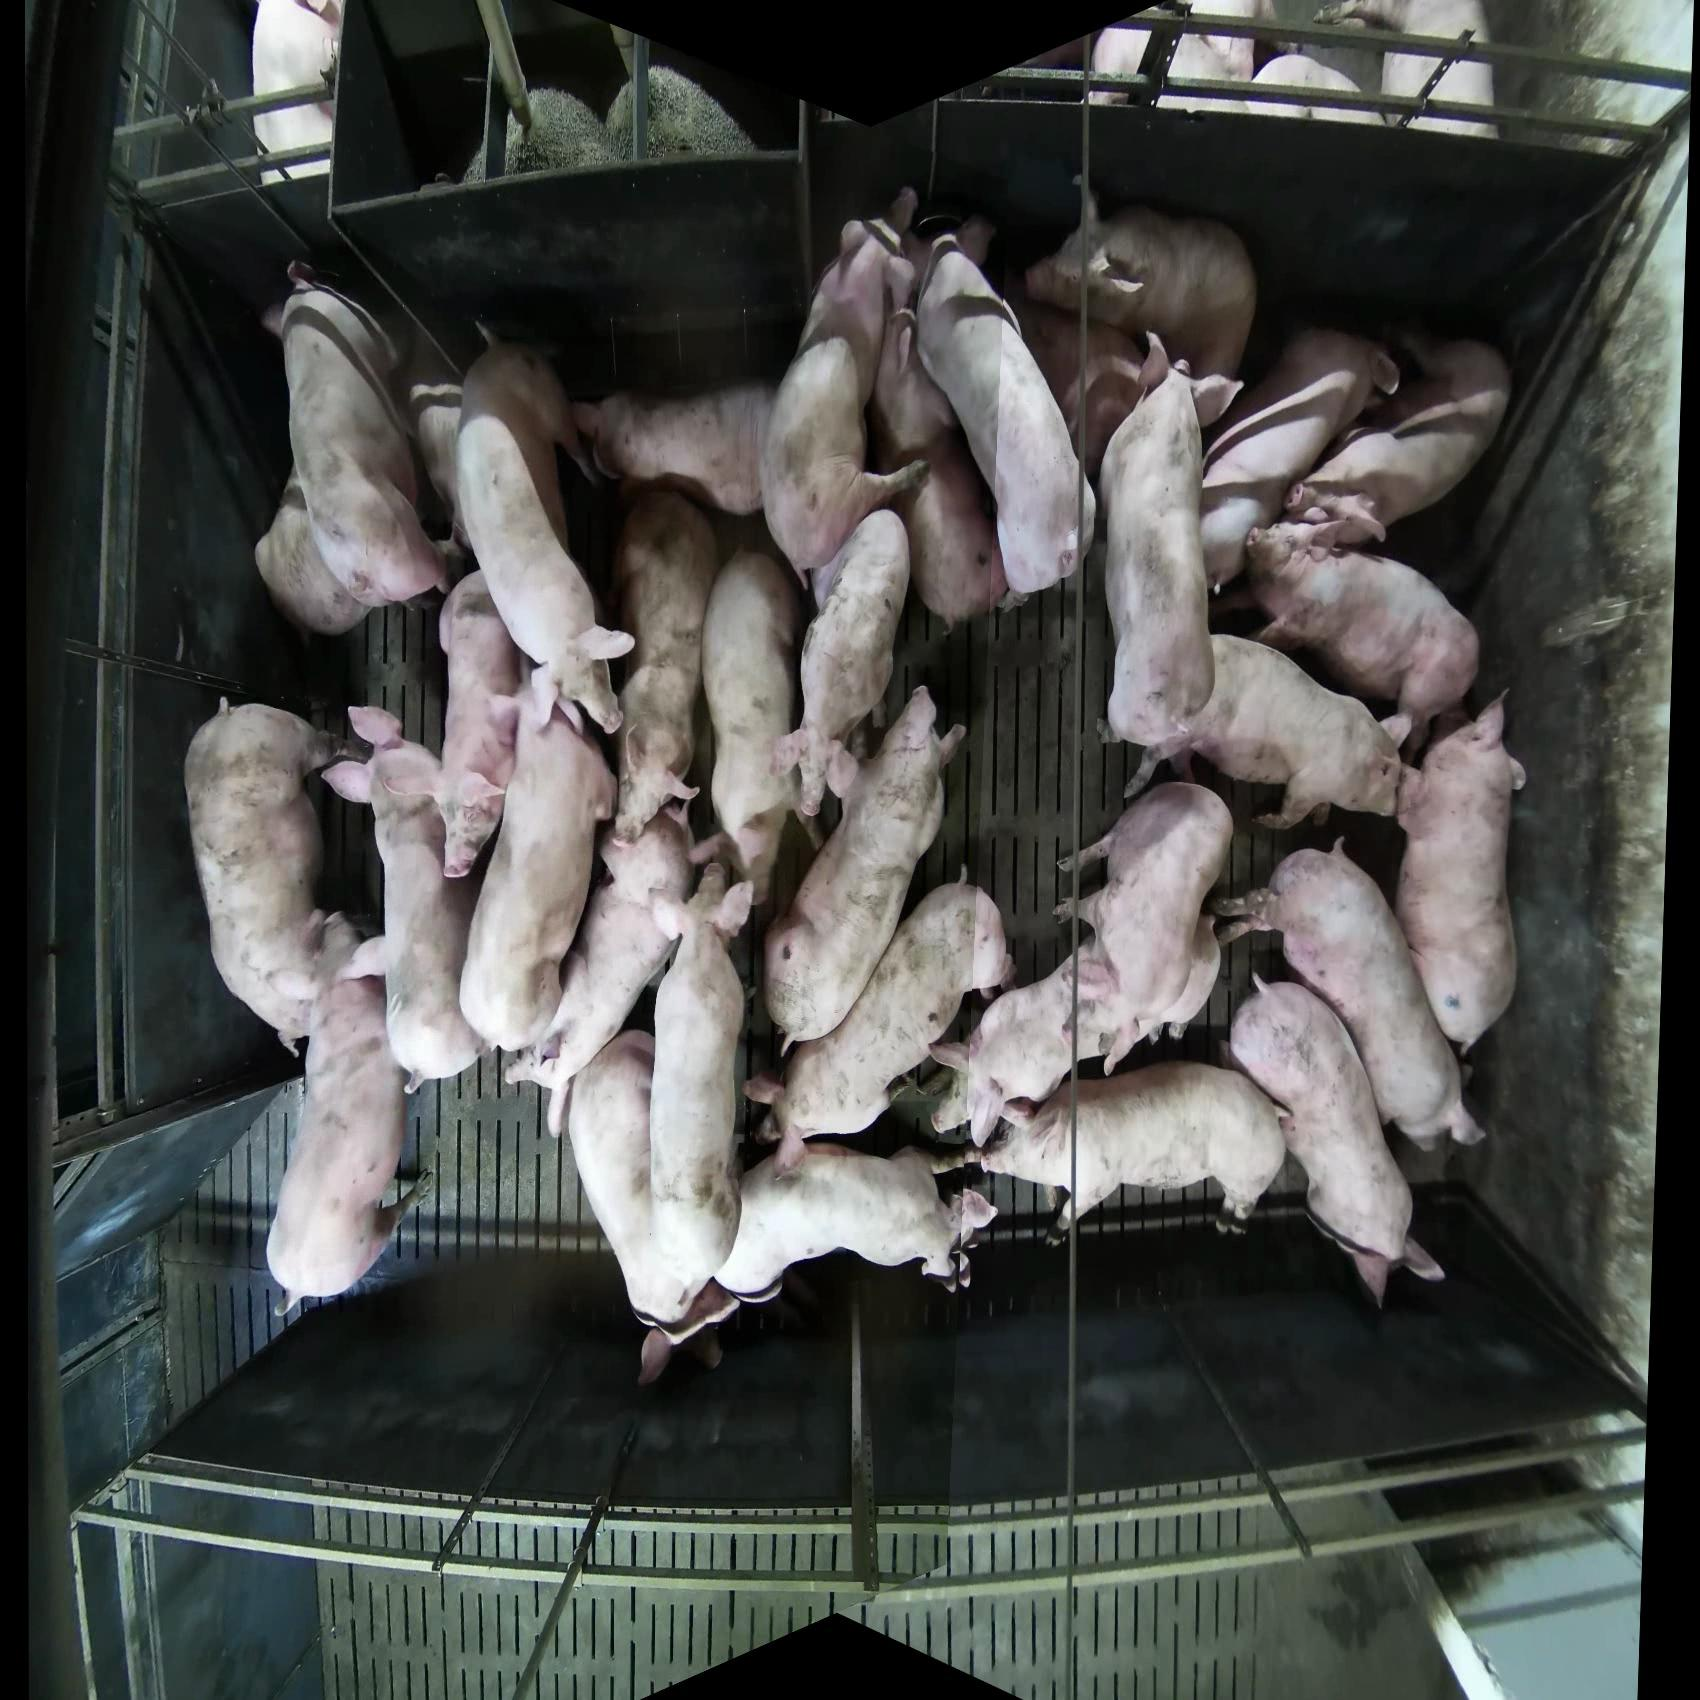pig: (743, 627, 975, 1059), (1211, 838, 1487, 1154), (599, 873, 780, 1297), (901, 195, 1077, 627), (1224, 967, 1446, 1308), (451, 336, 635, 735), (254, 266, 448, 637), (293, 690, 476, 1070), (753, 876, 1017, 1136), (637, 536, 811, 904), (182, 696, 360, 1055), (564, 453, 711, 881), (760, 173, 904, 592), (1242, 515, 1482, 766), (265, 967, 434, 1311), (1122, 632, 1410, 831), (1200, 321, 1401, 595), (978, 1062, 1289, 1236), (1281, 318, 1513, 548), (1393, 688, 1529, 1055), (1034, 797, 1235, 1045), (1098, 339, 1217, 750), (716, 1140, 999, 1303), (1024, 202, 1259, 385), (465, 662, 571, 1055), (413, 564, 532, 906), (537, 1079, 673, 1373)
